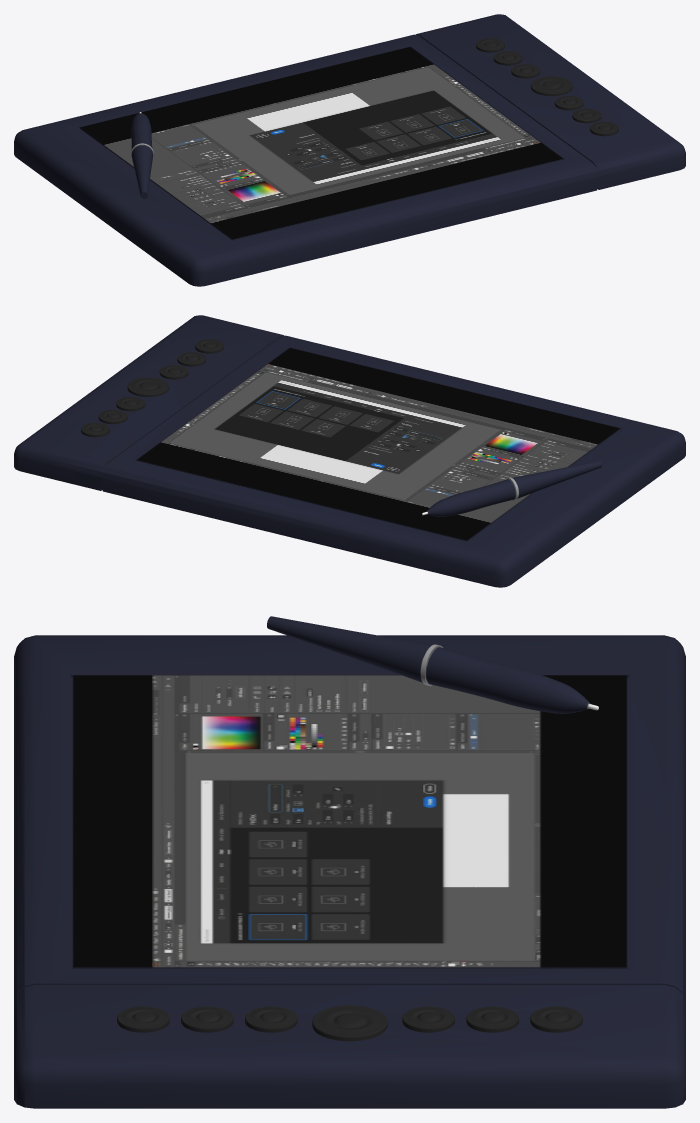
File: DIGITIZER.fbx
3 renders of one model, top to bottom at view 1: azimuth 30°, elevation 25°; view 2: azimuth 150°, elevation 25°; view 3: azimuth 270°, elevation 25°, orthographic. The views are drawn at different scales.
Parts seen in each view (by area): view 1: DIGITIZER; view 2: DIGITIZER; view 3: DIGITIZER.
Boxes of the visible parts, left/top/right/bottom form: DIGITIZER: left=14, top=14, right=685, bottom=286; DIGITIZER: left=14, top=315, right=685, bottom=587; DIGITIZER: left=14, top=616, right=685, bottom=1108.
Bounding box in the file's own units: 308 × 26.46 × 200.
